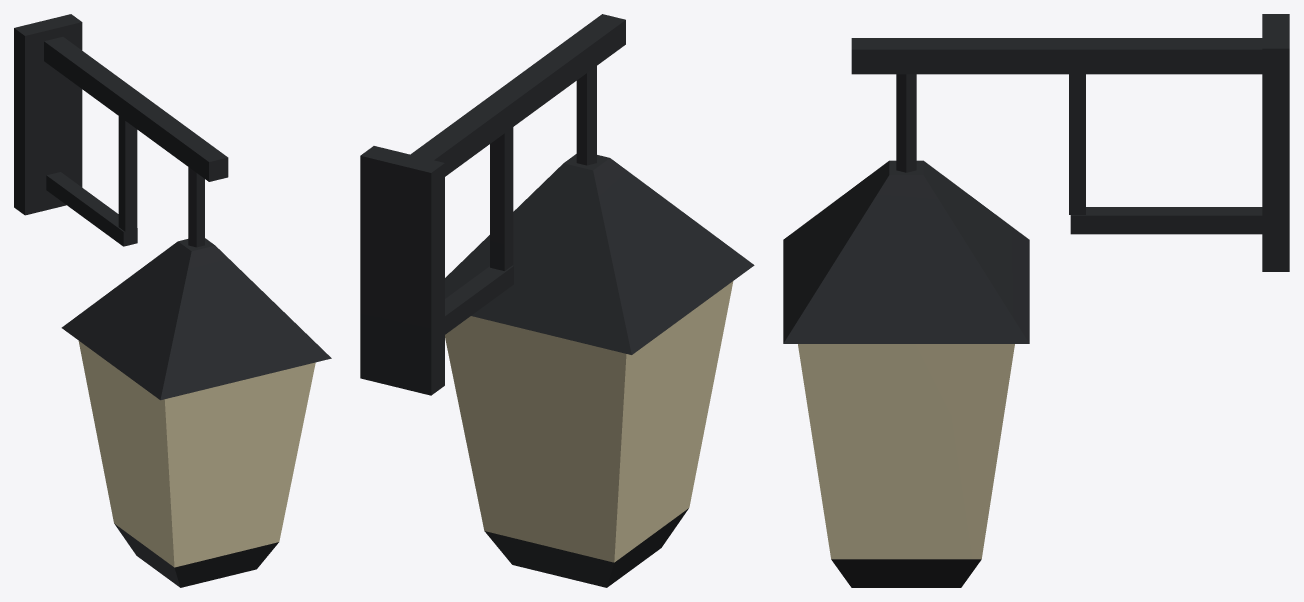
File: prop-lamp-wall.glb
3 renders of one model, left to right at view 1: azimuth 30°, elevation 25°; view 2: azimuth 150°, elevation 25°; view 3: azimuth 270°, elevation 25°, orthographic. The views are drawn at different scales.
Parts seen in each view (by area): view 1: prop-lamp-wall.iron, prop-lamp-wall.glass; view 2: prop-lamp-wall.iron, prop-lamp-wall.glass; view 3: prop-lamp-wall.iron, prop-lamp-wall.glass.
Part boxes in pixels (left/top/right/bottom): prop-lamp-wall.iron: left=14, top=14, right=331, bottom=587; prop-lamp-wall.glass: left=78, top=341, right=315, bottom=567; prop-lamp-wall.iron: left=360, top=14, right=754, bottom=587; prop-lamp-wall.glass: left=445, top=281, right=733, bottom=562; prop-lamp-wall.iron: left=783, top=14, right=1289, bottom=587; prop-lamp-wall.glass: left=798, top=344, right=1014, bottom=559.
Bounding box in the file's own units: 0.36 × 0.86 × 0.74.
